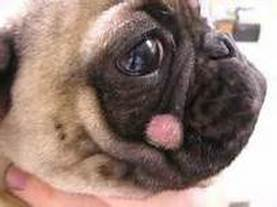ringworm: (142, 110, 187, 155)
